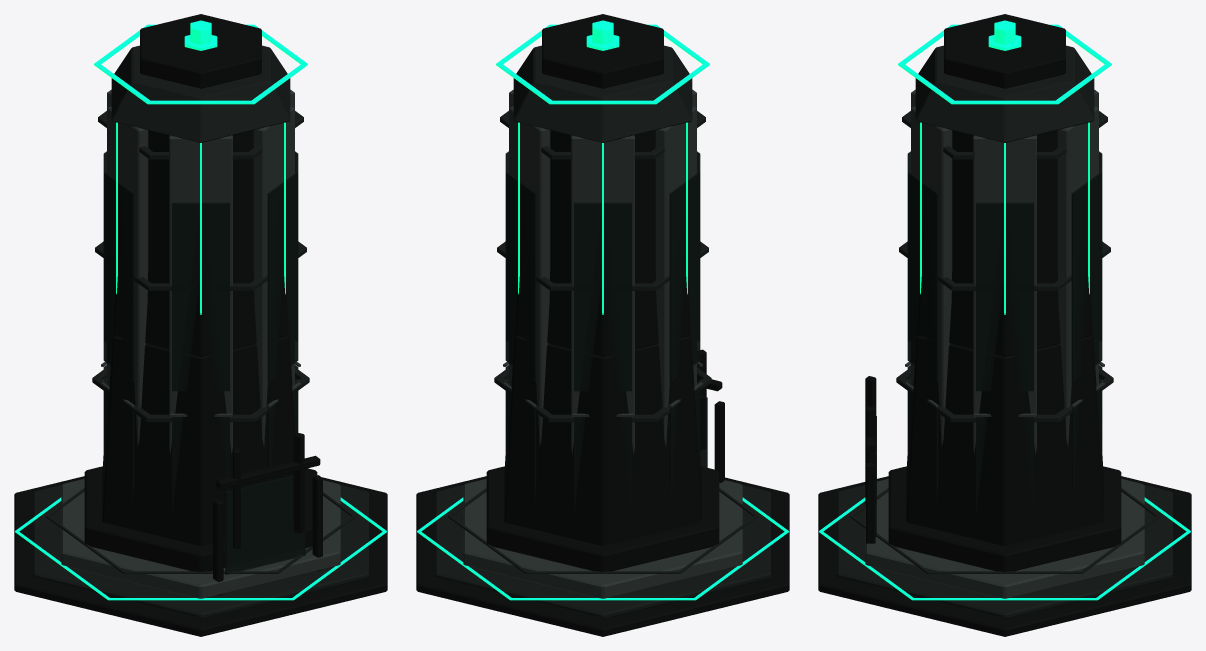
Rendered from command-center-lod1.glb.
The picture shows the model from 3 angles, left to right: view 1: azimuth 30°, elevation 25°; view 2: azimuth 150°, elevation 25°; view 3: azimuth 270°, elevation 25°; orthographic projection.
Parts seen in each view (by area): view 1: CC_LowerBody.001, CC_UpperBody.001, CC_Foundation.001, CC_PlazaDeck.001, CC_CrownShoulder.001, CC_WindowBand_5_2.001, CC_Podium.001, CC_CrownCap.001, CC_EntrySmokeGlass.001, CC_FacadeMass_5.001, CC_FacadeMass_4.001, CC_FacadeMass_6.001 (+17 smaller); view 2: CC_LowerBody.001, CC_UpperBody.001, CC_Foundation.001, CC_PlazaDeck.001, CC_CrownShoulder.001, CC_Podium.001, CC_WindowBand_3_2.001, CC_AtriumBase.001, CC_CrownCap.001, CC_FacadeMass_3.001, CC_FacadeMass_2.001, CC_FacadeMass_4.001 (+13 smaller); view 3: CC_LowerBody.001, CC_UpperBody.001, CC_Foundation.001, CC_PlazaDeck.001, CC_CrownShoulder.001, CC_WindowBand_1_2.001, CC_Podium.001, CC_AtriumBase.001, CC_CrownCap.001, CC_FacadeMass_1.001, CC_FacadeMass_2.001, CC_FacadeMass_6.001 (+13 smaller).
Part boxes in pixels (<box>): CC_LowerBody.001: <box>102,332,294,545</box>; CC_UpperBody.001: <box>113,130,288,356</box>; CC_Foundation.001: <box>14,476,387,636</box>; CC_PlazaDeck.001: <box>33,485,368,618</box>; CC_CrownShoulder.001: <box>111,45,290,142</box>; CC_WindowBand_5_2.001: <box>172,202,229,391</box>; CC_Podium.001: <box>61,479,340,598</box>; CC_CrownCap.001: <box>140,14,261,88</box>; CC_EntrySmokeGlass.001: <box>225,473,305,574</box>; CC_FacadeMass_5.001: <box>169,135,232,453</box>; CC_FacadeMass_4.001: <box>107,106,148,446</box>; CC_FacadeMass_6.001: <box>253,106,294,446</box>; CC_LowerBody.001: <box>504,332,701,545</box>; CC_UpperBody.001: <box>515,130,690,356</box>; CC_Foundation.001: <box>416,476,789,636</box>; CC_PlazaDeck.001: <box>435,485,770,618</box>; CC_CrownShoulder.001: <box>513,45,692,142</box>; CC_Podium.001: <box>463,479,742,598</box>; CC_WindowBand_3_2.001: <box>574,202,631,391</box>; CC_AtriumBase.001: <box>486,466,719,571</box>; CC_CrownCap.001: <box>542,14,663,88</box>; CC_FacadeMass_3.001: <box>571,135,634,453</box>; CC_FacadeMass_2.001: <box>509,106,550,446</box>; CC_FacadeMass_4.001: <box>655,106,696,446</box>; CC_LowerBody.001: <box>906,332,1103,545</box>; CC_UpperBody.001: <box>917,130,1092,356</box>; CC_Foundation.001: <box>818,476,1191,636</box>; CC_PlazaDeck.001: <box>837,485,1172,618</box>; CC_CrownShoulder.001: <box>915,45,1094,142</box>; CC_WindowBand_1_2.001: <box>976,202,1033,391</box>; CC_Podium.001: <box>865,479,1144,598</box>; CC_AtriumBase.001: <box>888,466,1121,571</box>; CC_CrownCap.001: <box>944,14,1065,88</box>; CC_FacadeMass_1.001: <box>973,135,1036,453</box>; CC_FacadeMass_2.001: <box>1057,106,1098,446</box>; CC_FacadeMass_6.001: <box>911,106,952,446</box>.
Bounding box in the file's own units: 53.78 × 72 × 46.77.
